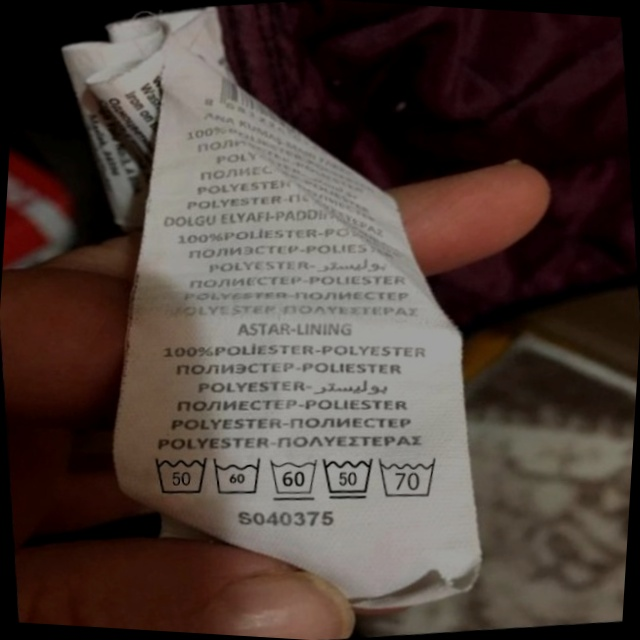50C: (145, 443, 216, 505), (316, 448, 382, 508)
60C: (264, 449, 326, 507), (207, 448, 270, 504)
70C: (375, 449, 447, 505)
